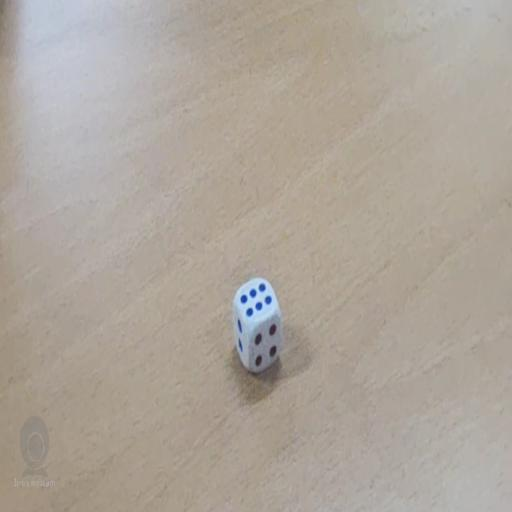dice_6: (232, 278, 282, 376)
